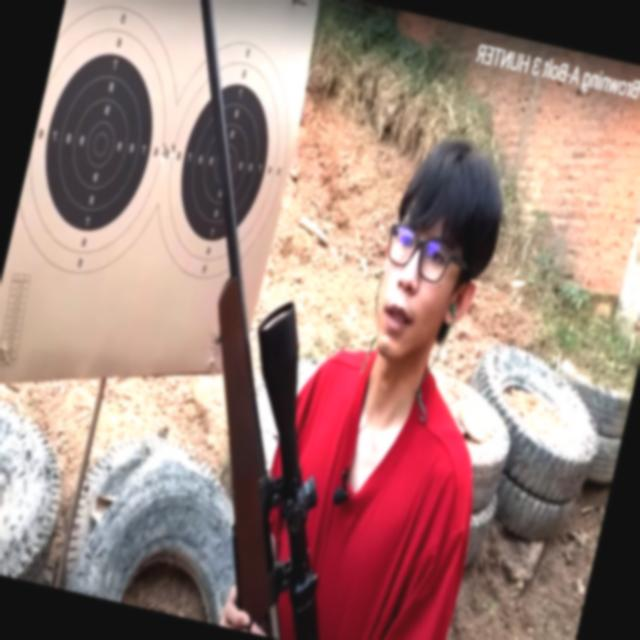rifle: (45, 0, 467, 640)
